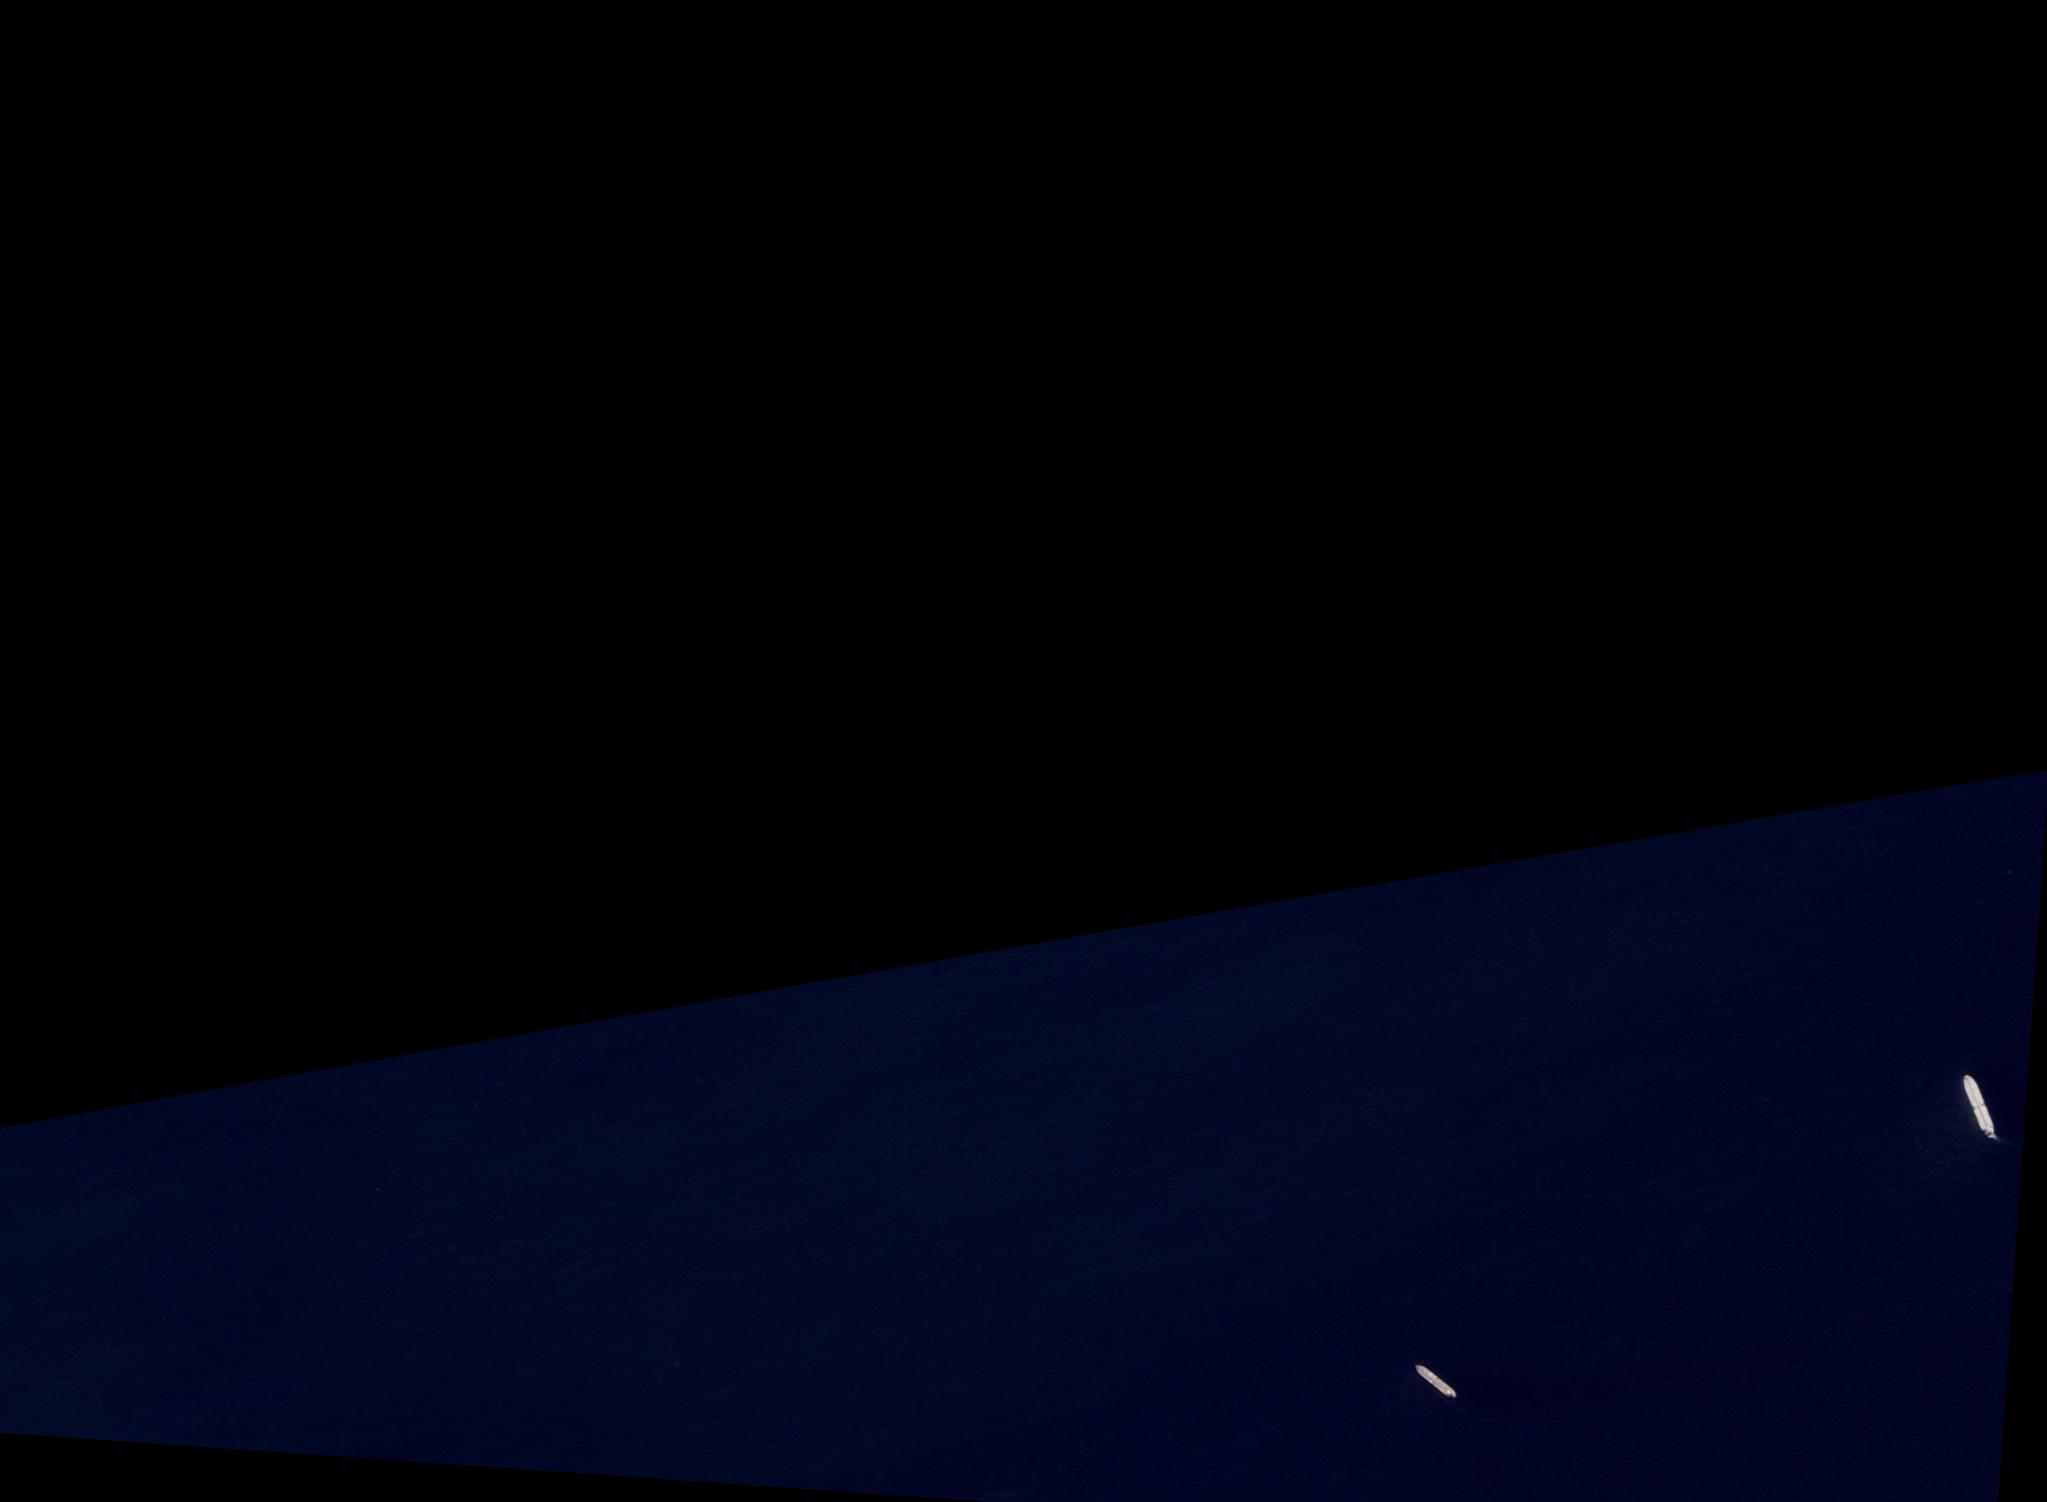ship: (1958, 1073, 1998, 1138), (1411, 1362, 1456, 1397)
